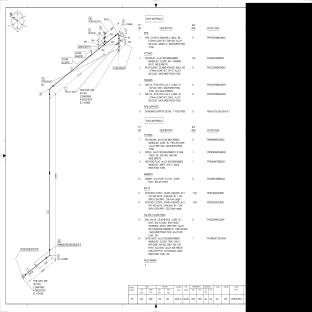elbow: (46, 250, 50, 259), (49, 85, 53, 94), (115, 33, 119, 38)
flange: (22, 274, 26, 278), (118, 37, 120, 43)
support: (34, 264, 38, 268)
valve: (118, 43, 121, 51)
weld: (118, 37, 120, 39), (46, 257, 47, 259), (49, 249, 50, 251), (115, 35, 116, 37)
